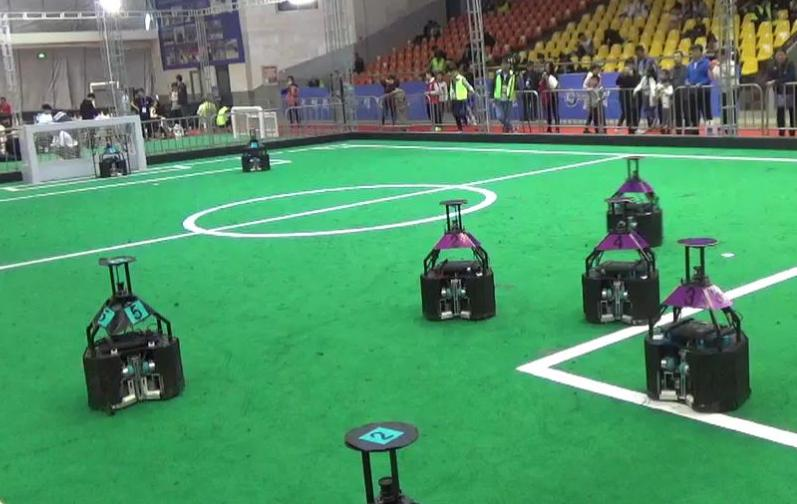robot: (639, 237, 758, 417), (76, 244, 193, 415), (574, 194, 668, 329), (413, 194, 500, 324), (600, 151, 669, 250)
